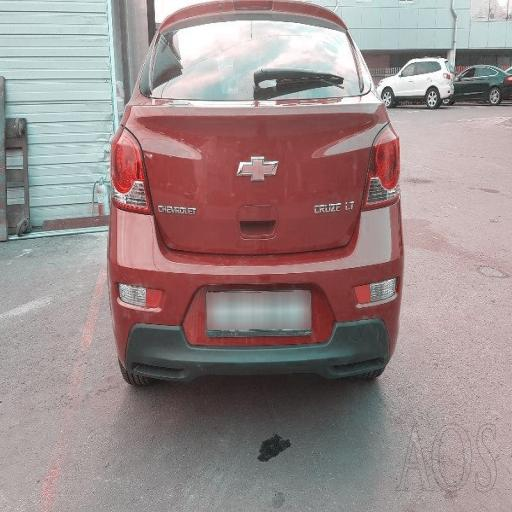dent: (113, 0, 402, 192)
